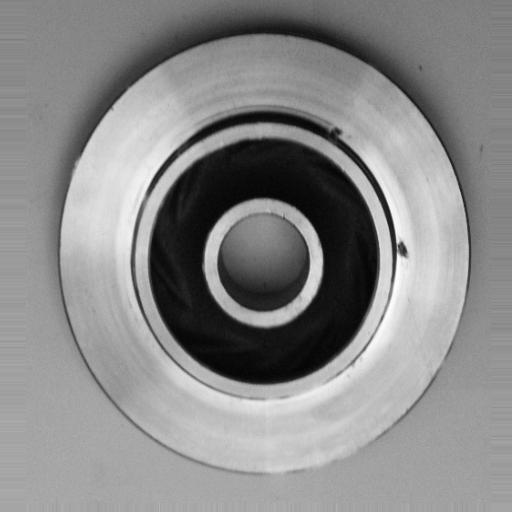crack: (322, 116, 355, 149), (386, 235, 415, 269)
unpolished_casting: (55, 28, 470, 476)
